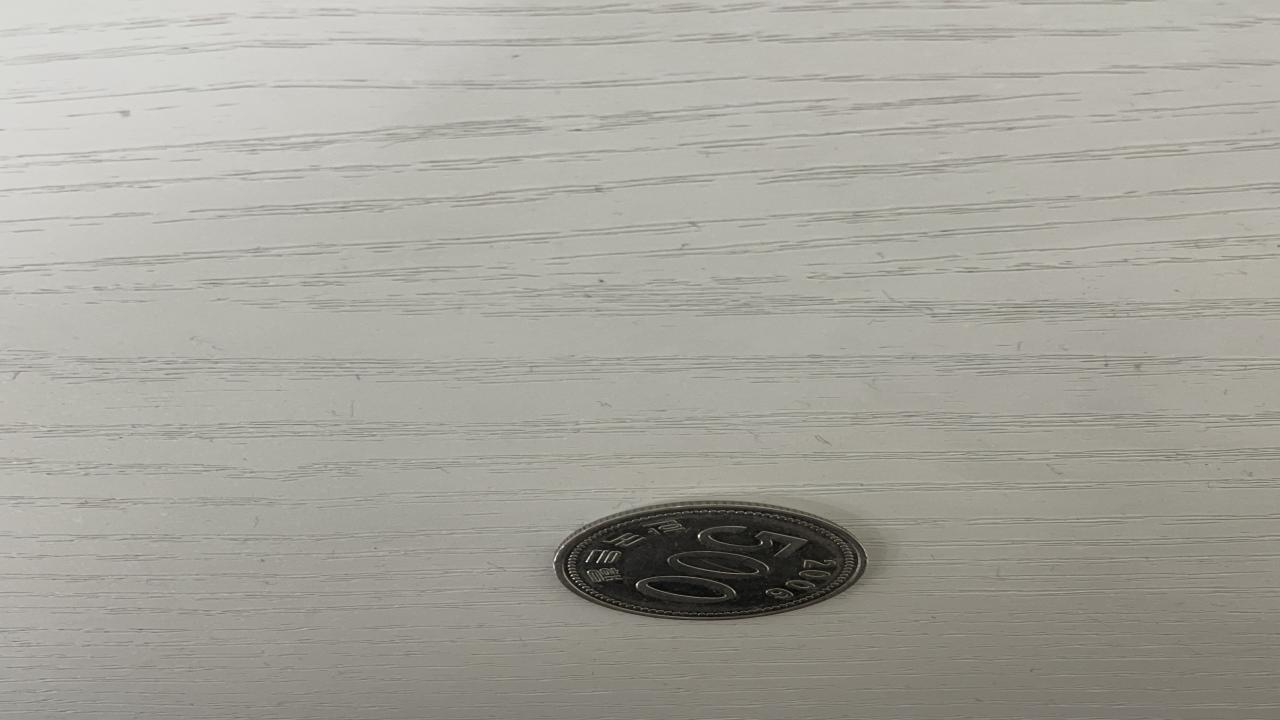coin: (552, 501, 868, 619)
